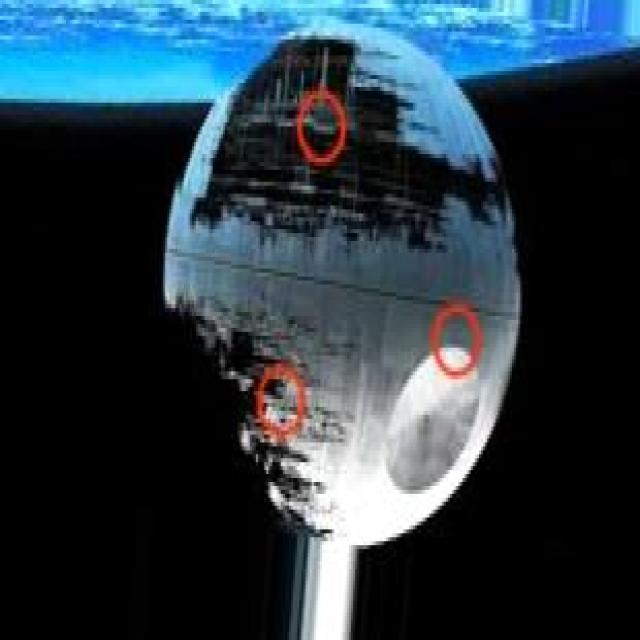deathstar: (166, 29, 520, 545)
